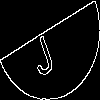J: (25, 25, 57, 79)
